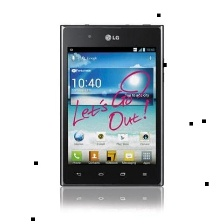phone: (55, 18, 170, 191)
